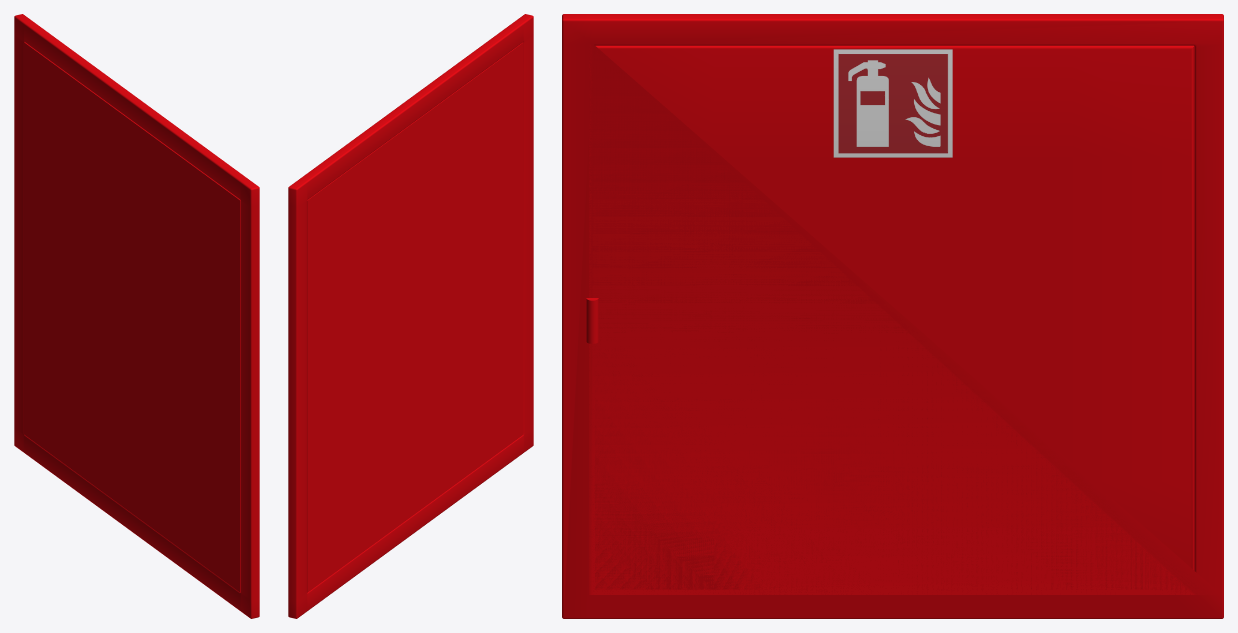
The model's file is wlaz_od_gasnicy.fbx.
The picture shows the model from 3 angles, left to right: view 1: azimuth 30°, elevation 25°; view 2: azimuth 150°, elevation 25°; view 3: azimuth 270°, elevation 25°; orthographic projection. The views are drawn at different scales.
Parts seen in each view (by area): view 1: Plane.001; view 2: Plane.001; view 3: Plane.001.
Part boxes in pixels (x1,y1,x2,y2): Plane.001: [14, 14, 259, 618]; Plane.001: [288, 14, 533, 618]; Plane.001: [562, 14, 1223, 618].
Size of the model in its own units: 7.09 by 220 by 220.
Materials: 2 (1 with a texture image).
